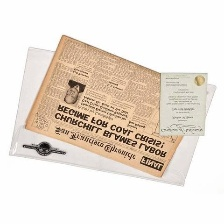news_paper: (20, 33, 198, 179)
